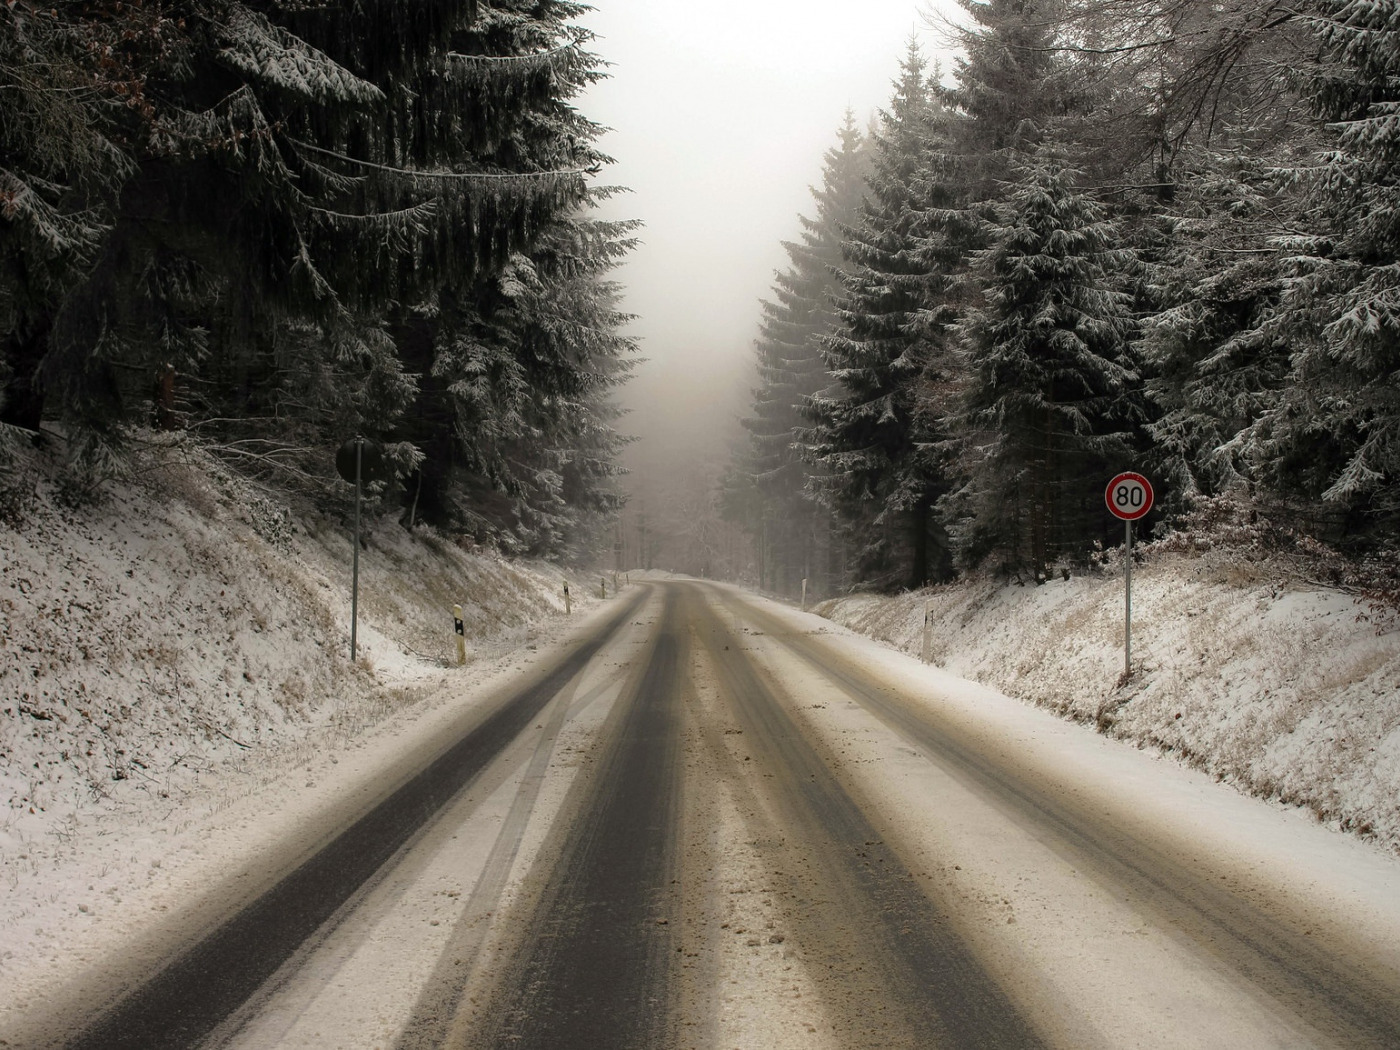sign: (1105, 467, 1154, 522)
